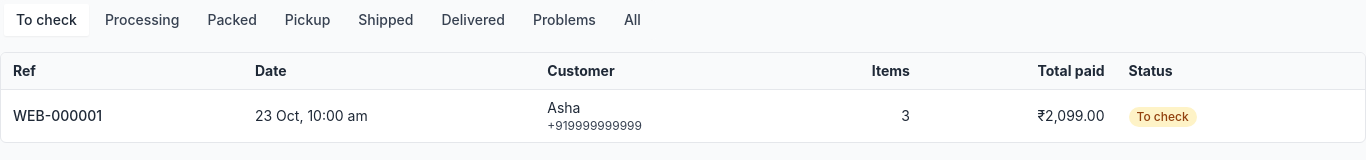
it: switching tab reloads with that filter and flags problems
This screenshot has width=1366, height=160.
Expected: the text "WEB-000001" is shown, 1,90 -> 243,142
Step 1. Click the tab "Problems" → (564, 20), box 521,4 -> 608,36
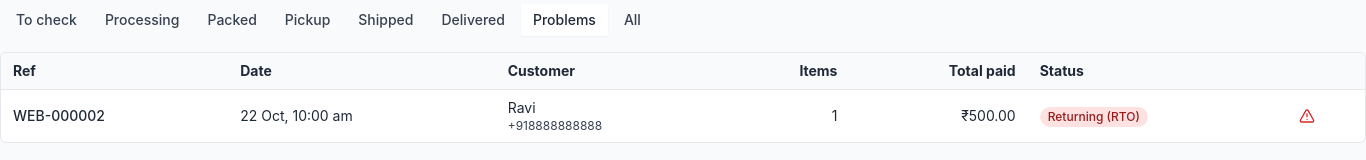
Now the text "WEB-000002" is shown, box 1,90 -> 228,142
Now the icon named "Needs attention" is shown, box 1299,108 -> 1315,124
Now the text "WEB-000001" is gone
